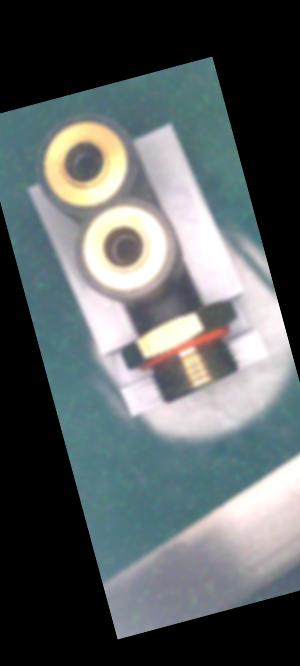craze: (165, 312, 174, 321)
white mark: (163, 302, 171, 312)
